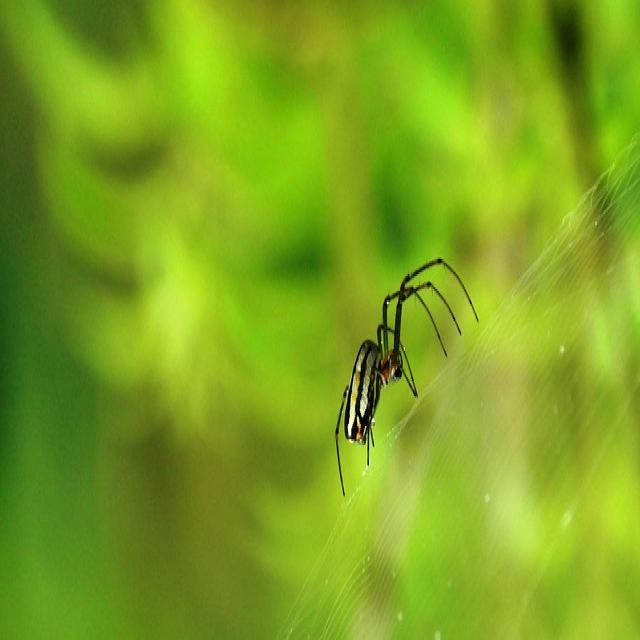spyder: (335, 258, 477, 491)
